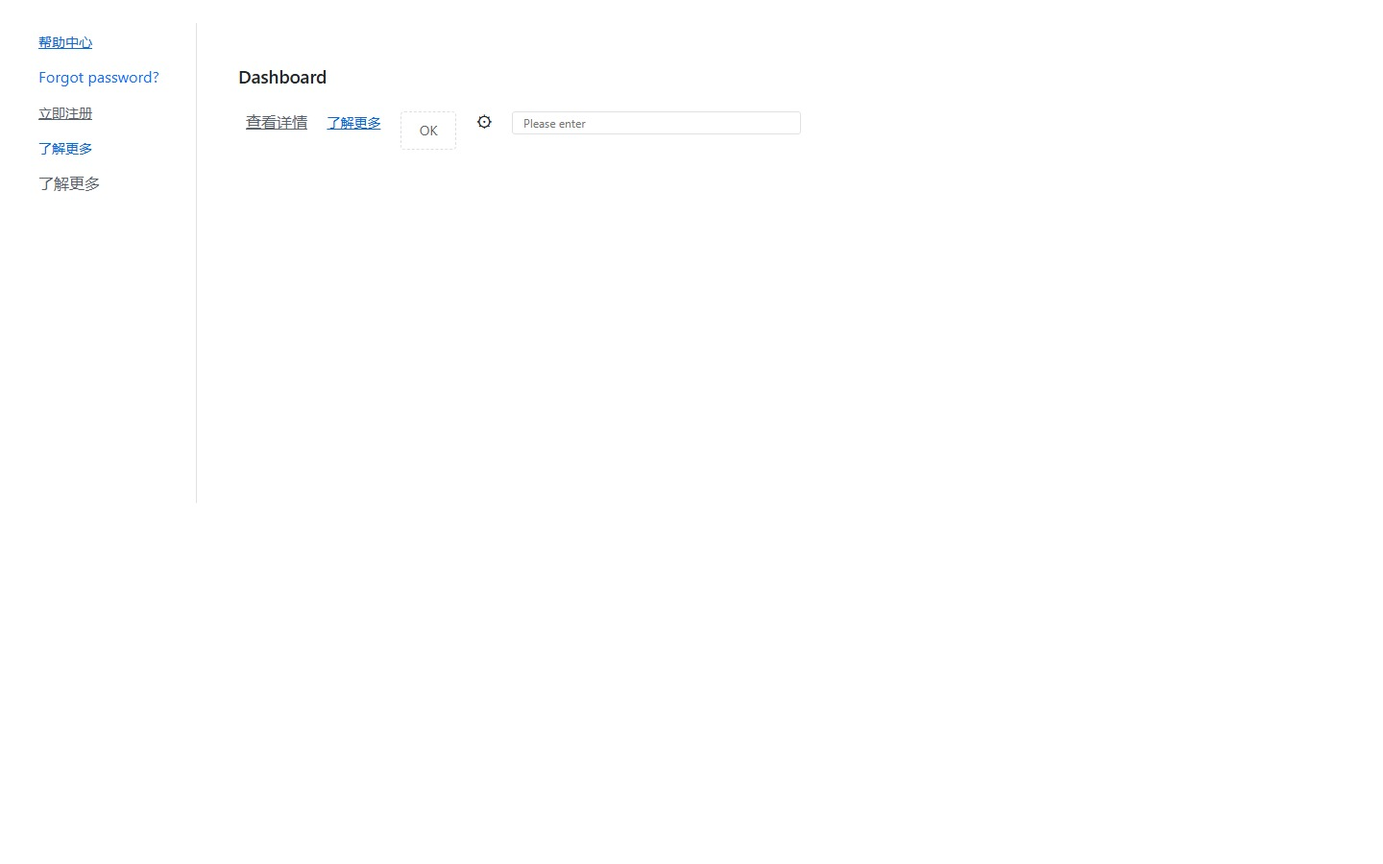button: (400, 111, 457, 149)
icon: (476, 111, 492, 130)
input: (512, 111, 801, 134)
link: (38, 66, 159, 86), (38, 173, 100, 193), (246, 111, 307, 131), (38, 33, 92, 51), (38, 104, 92, 122), (38, 139, 92, 157), (327, 113, 381, 131)
